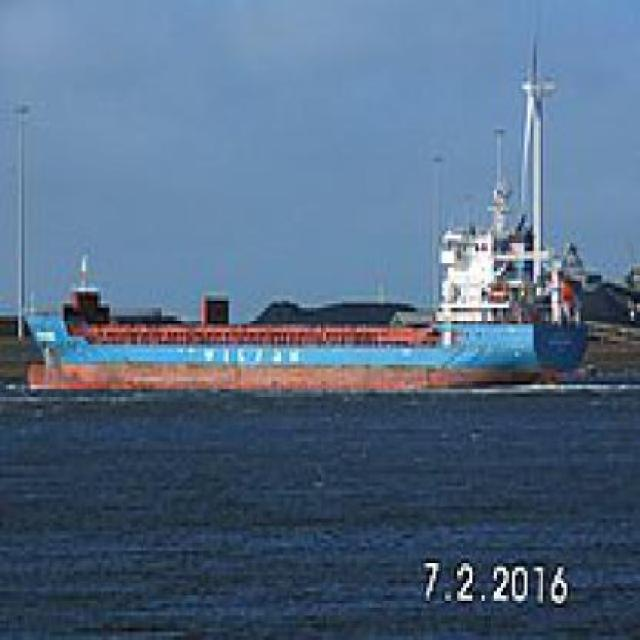container: (13, 200, 596, 403)
